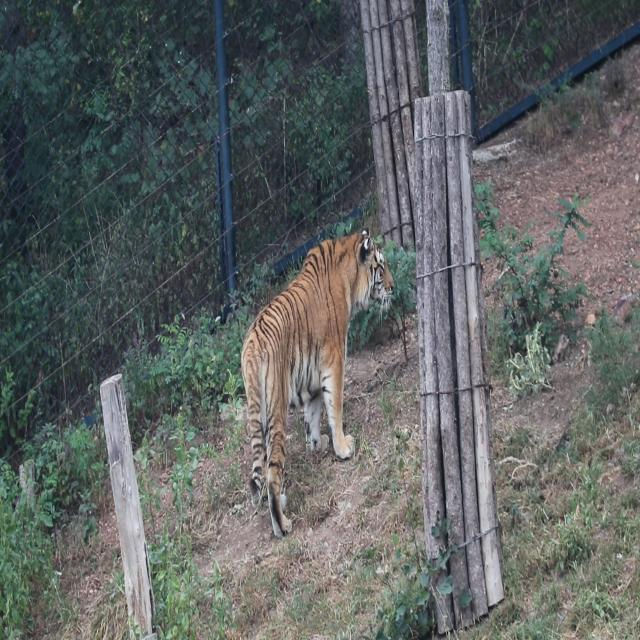Tiger: (228, 209, 398, 542)
